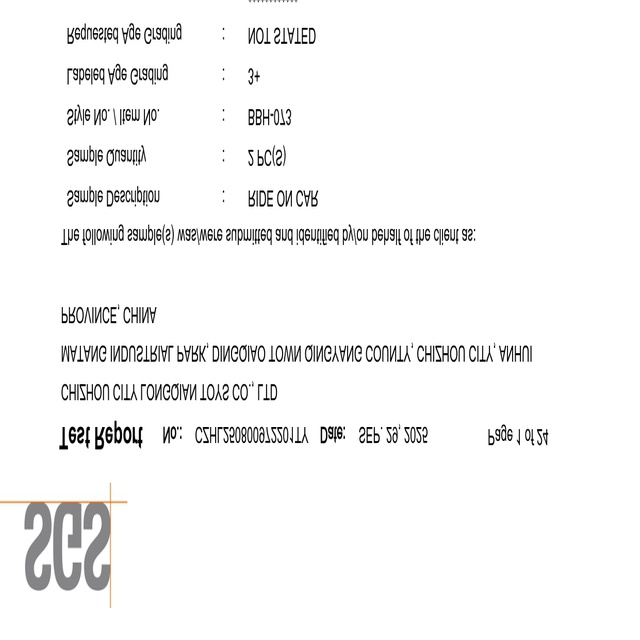sgs: (23, 503, 111, 591)
